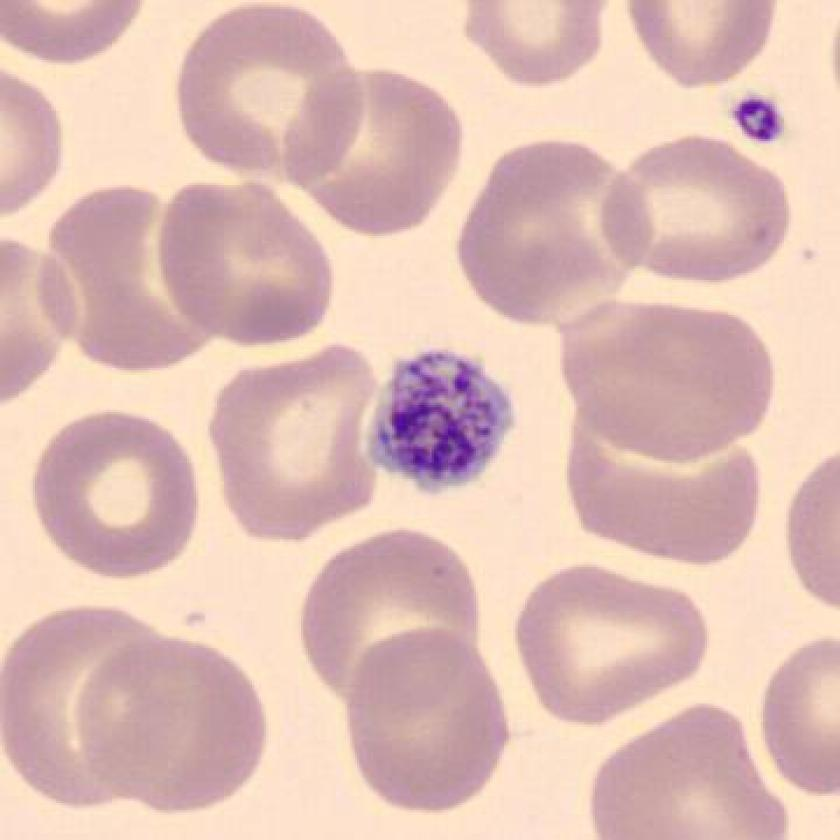platelets: (349, 337, 528, 513), (725, 77, 795, 161)
